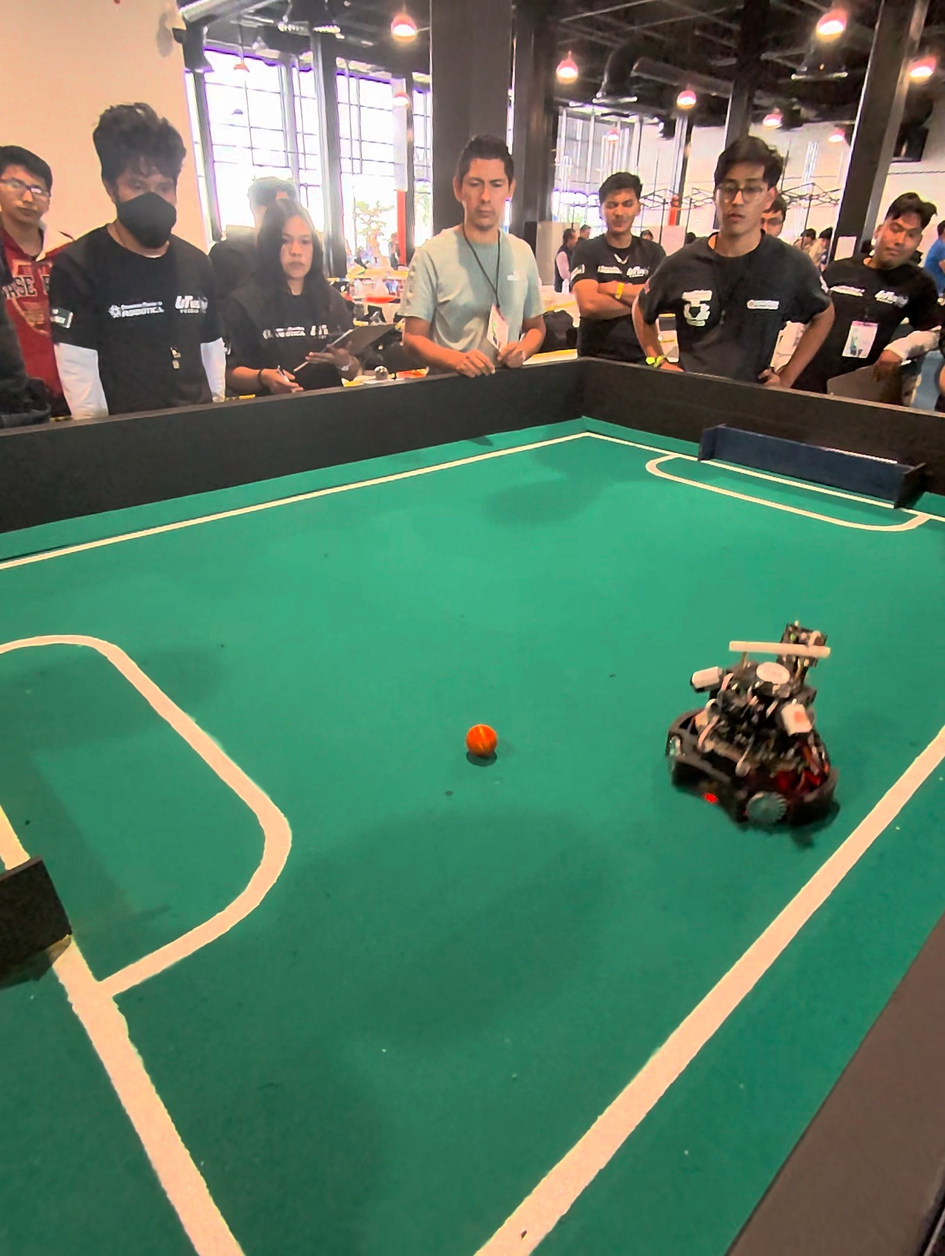Robot: (657, 615, 838, 847)
pelota: (465, 728, 498, 763)
